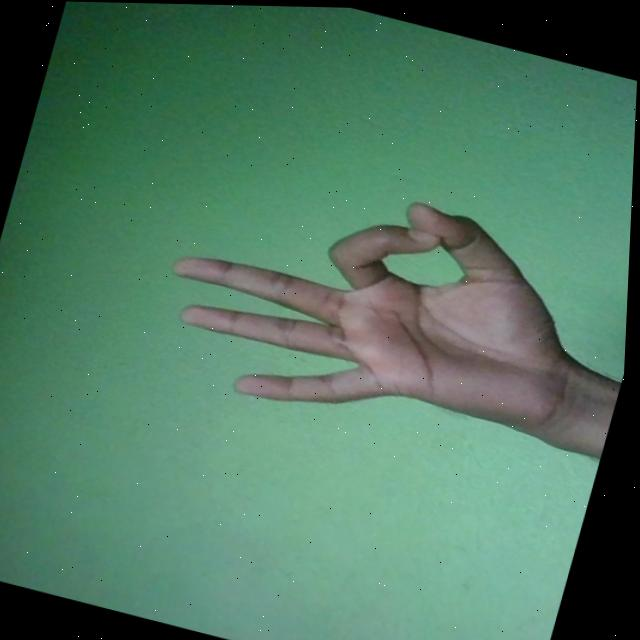Ok: (143, 145, 617, 470)
